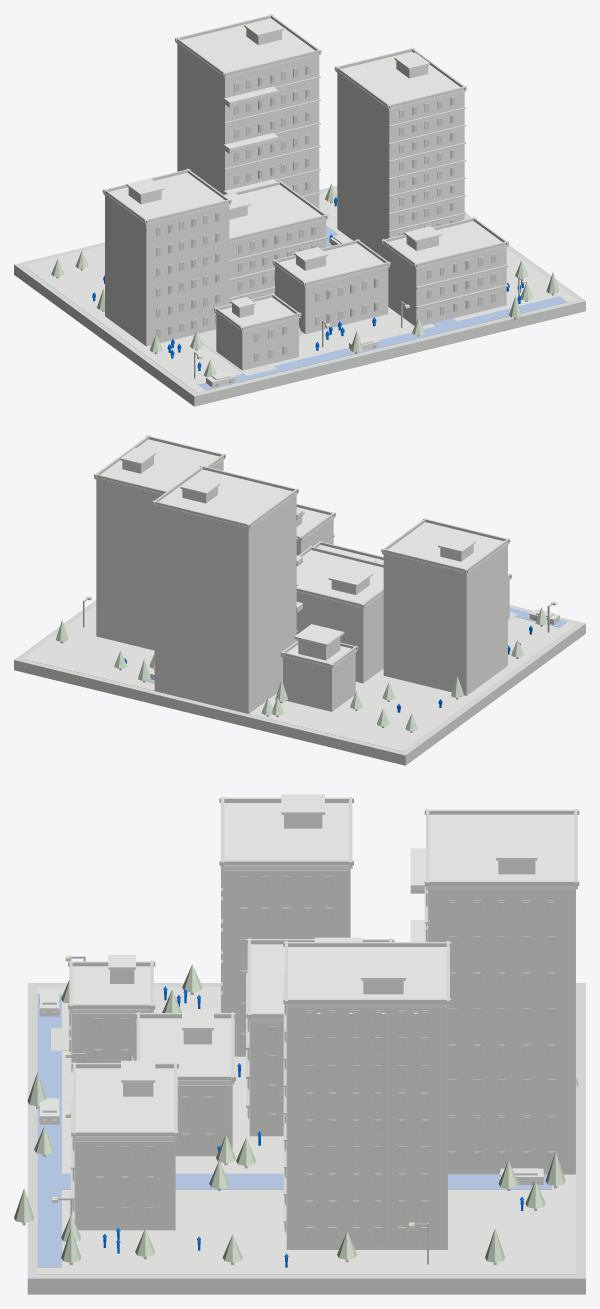
The model's file is reference-city.glb.
3 renders of one model, top to bottom at view 1: azimuth 30°, elevation 25°; view 2: azimuth 150°, elevation 25°; view 3: azimuth 270°, elevation 25°, orthographic. The views are drawn at different scales.
Parts seen in each view (by area): view 1: Site, cars, people and trees, North tower, East tower, West residence, East wing, Center hall, Central office, South studio; view 2: North tower, Site, cars, people and trees, West residence, East tower, Central office, North pavilion, East wing, Center hall; view 3: Site, cars, people and trees, East tower, North tower, West residence, East wing, Center hall, South studio, Central office.
Part boxes in pixels (left/top/right/bottom): Site, cars, people and trees: left=14, top=183, right=585, bottom=406; North tower: left=175, top=14, right=321, bottom=208; East tower: left=334, top=47, right=466, bottom=257; West residence: left=102, top=168, right=231, bottom=346; East wing: left=381, top=217, right=508, bottom=325; Center hall: left=272, top=239, right=390, bottom=334; Central office: left=224, top=180, right=328, bottom=304; South studio: left=214, top=293, right=301, bottom=370; North tower: left=152, top=465, right=302, bottom=713; Site, cars, people and trees: left=14, top=596, right=585, bottom=765; West residence: left=381, top=518, right=510, bottom=695; East tower: left=94, top=435, right=225, bottom=650; Central office: left=296, top=546, right=383, bottom=683; North pavilion: left=280, top=624, right=358, bottom=711; East wing: left=296, top=503, right=335, bottom=555; Center hall: left=313, top=541, right=383, bottom=563; Site, cars, people and trees: left=14, top=955, right=585, bottom=1294; East tower: left=283, top=941, right=451, bottom=1249; North tower: left=410, top=809, right=579, bottom=1174; West residence: left=219, top=794, right=353, bottom=1056; East wing: left=71, top=1060, right=178, bottom=1230; Center hall: left=135, top=1009, right=235, bottom=1156; South studio: left=68, top=955, right=155, bottom=1072; Central office: left=246, top=937, right=394, bottom=1136.
Bounding box in the file's own units: 104 × 52.95 × 85.01.
